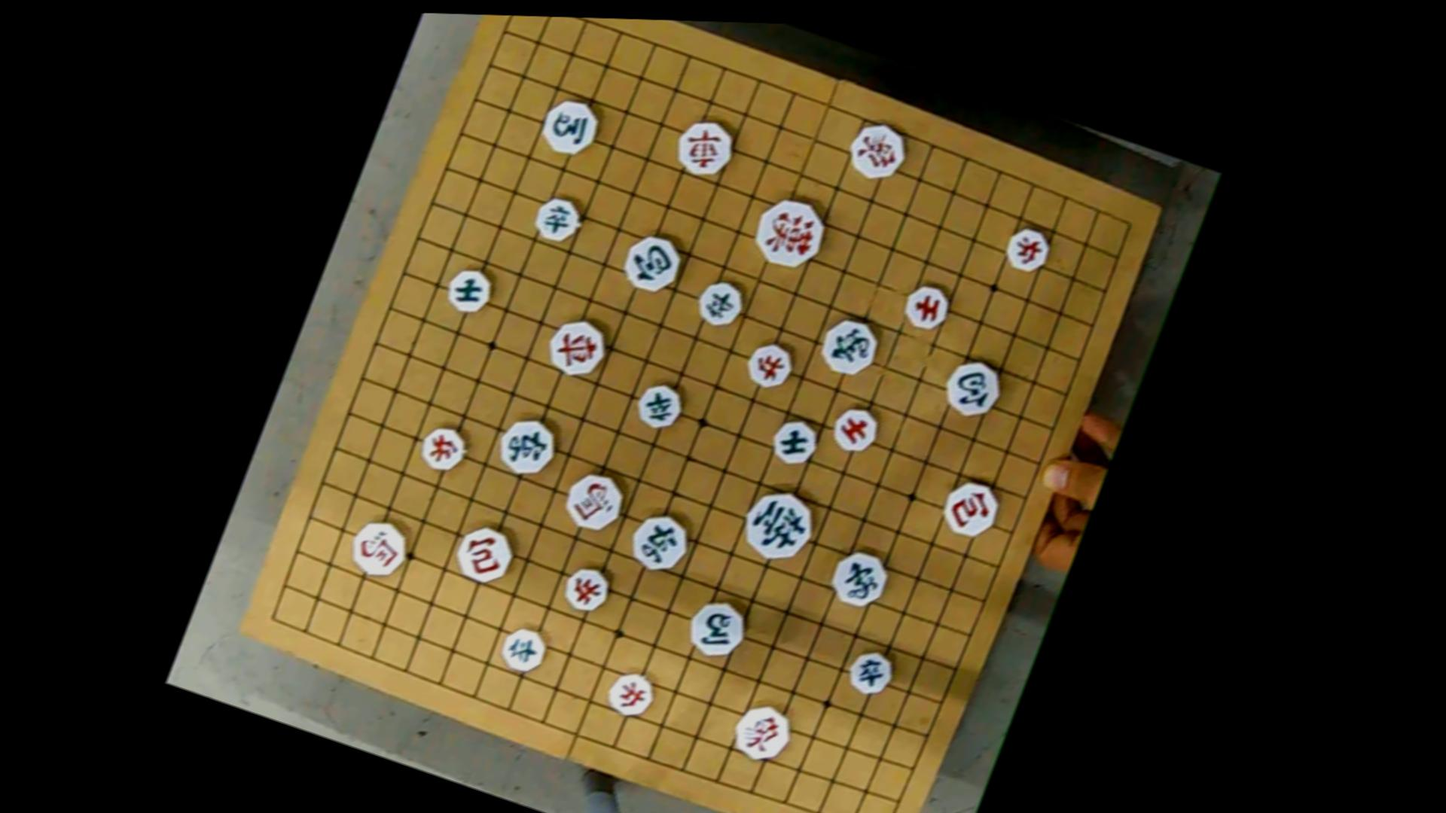cha_green: (494, 412, 564, 483), (625, 506, 695, 576)
cha_red: (671, 110, 742, 181), (544, 313, 614, 383)
jol_green: (694, 272, 751, 330), (630, 379, 689, 435), (528, 191, 585, 248), (498, 622, 554, 679), (841, 645, 899, 700)
jol_red: (558, 561, 616, 617), (743, 335, 798, 394), (999, 220, 1054, 279), (602, 666, 660, 721), (417, 419, 473, 475)
ma_green: (535, 92, 606, 163), (682, 592, 752, 663)
ma_red: (557, 467, 632, 539), (346, 514, 416, 585)
po_green: (616, 227, 686, 298), (939, 354, 1008, 425)
po_red: (937, 471, 1006, 544), (450, 519, 520, 590)
sa_green: (441, 260, 498, 318), (765, 412, 822, 470)
sa_red: (898, 276, 956, 333), (826, 402, 882, 459)
sang_green: (813, 312, 883, 383), (824, 547, 893, 612)
sang_red: (842, 114, 914, 188), (727, 697, 798, 764)
wang_green: (735, 482, 820, 567)
wang_red: (749, 189, 831, 276)
